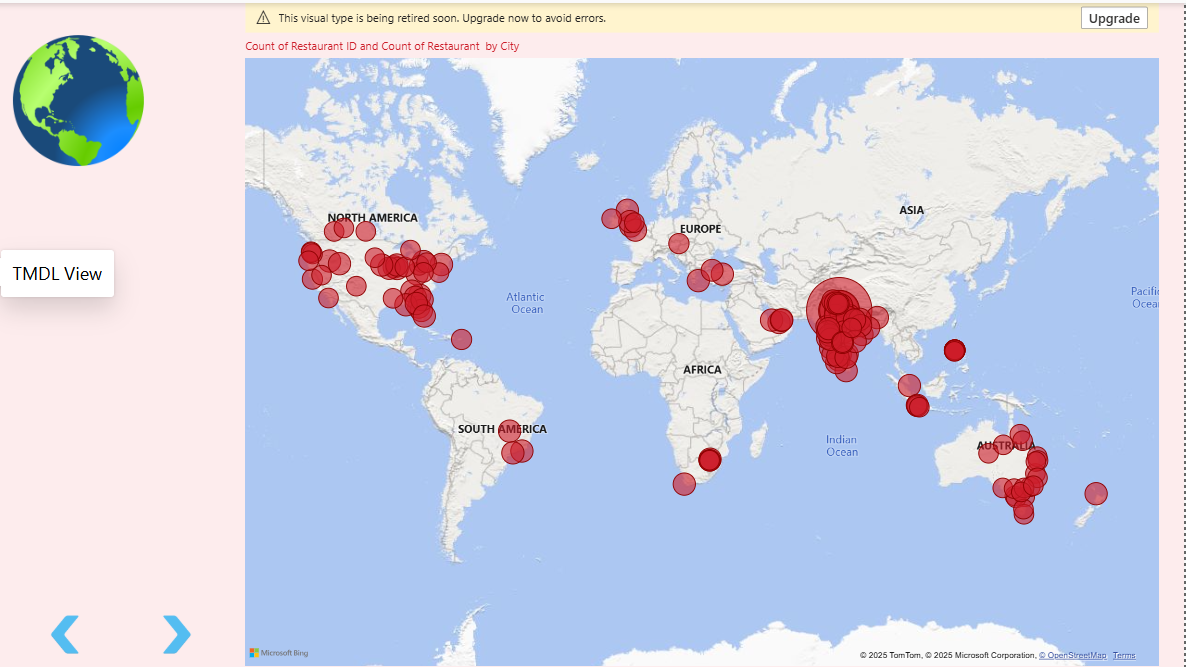

Layout of this report page (visuals, bound fields, positions):
{"tool":"powerbi","page":{"name":"Restaurants  Locations","canvas":[1280,720],"ordinal":2},"visuals":[{"type":"image","box":[10.1,0,151.9,210.6],"z":0},{"type":"map","fields":{"Category":["Country Master.Continent","Country Master.Country","Restaurant.City","Restaurant.Restaurant Name"],"Size":["CountNonNull(Restaurant.Restaurant ID)"]},"box":[261.3,0,996.5,721],"z":1000},{"type":"image","box":[132.8,655.8,118.2,51.8],"z":2000},{"type":"image","box":[9.7,655.8,123.1,51.8],"z":3000}]}

Visuals, with their boxes on the page's 1280x720 design canvas (x1, y1, x2, y2). These are canvas units, not pixel positions in the 1186x667 screenshot, which may show the page scaled, cropped or inside an application window:
image: [left=10, top=0, right=162, bottom=211]
map - Country Master.Continent x Country Master.Country: [left=261, top=0, right=1258, bottom=721]
image: [left=133, top=656, right=251, bottom=708]
image: [left=10, top=656, right=133, bottom=708]
